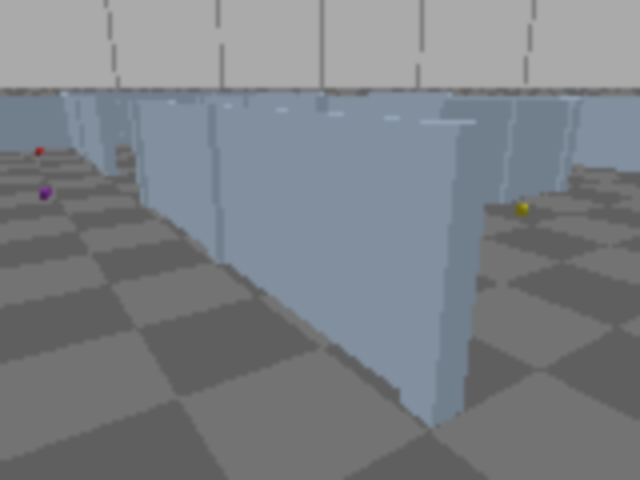puck: (510, 201, 533, 218)
